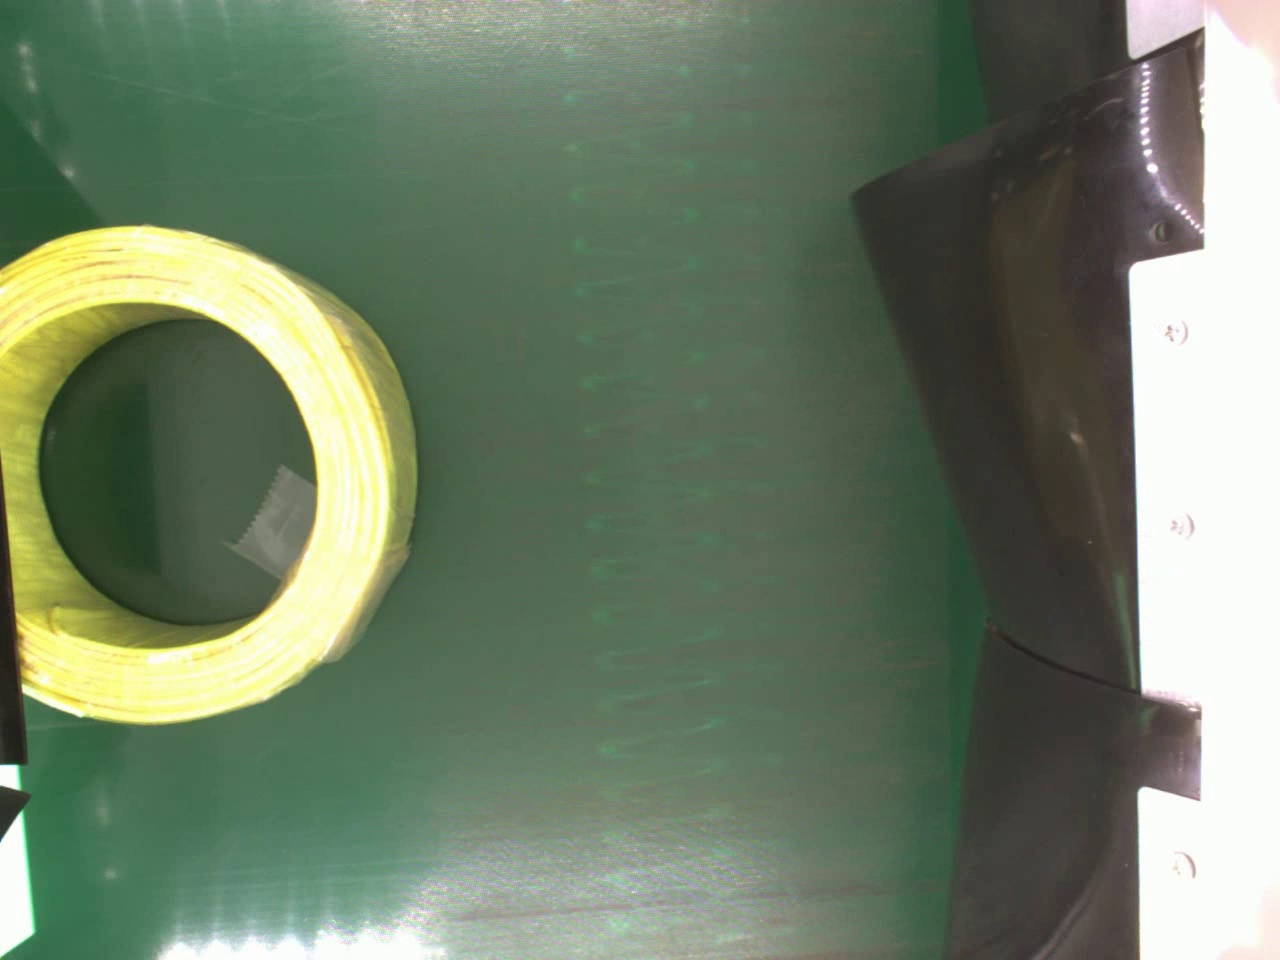yellow: (0, 218, 415, 723)
